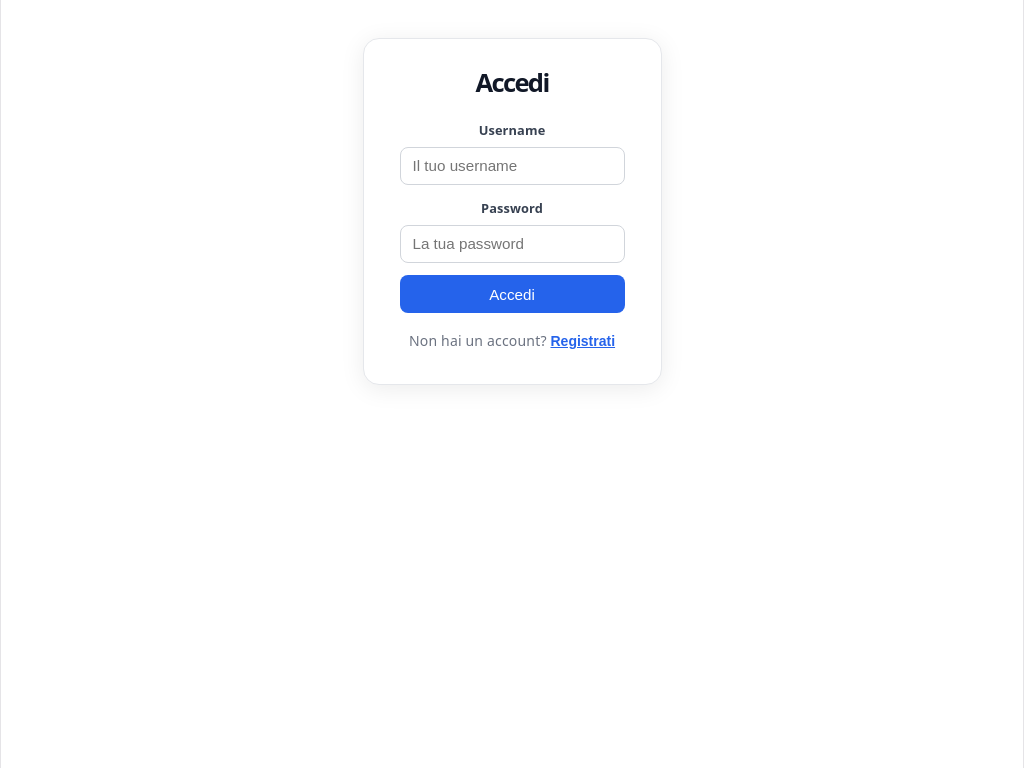
login flow › stores token + user and renders the planner on success
The image size is (1024, 768).
In the field labelled "Username": (512, 166) [400,147,624,185], type "mario"
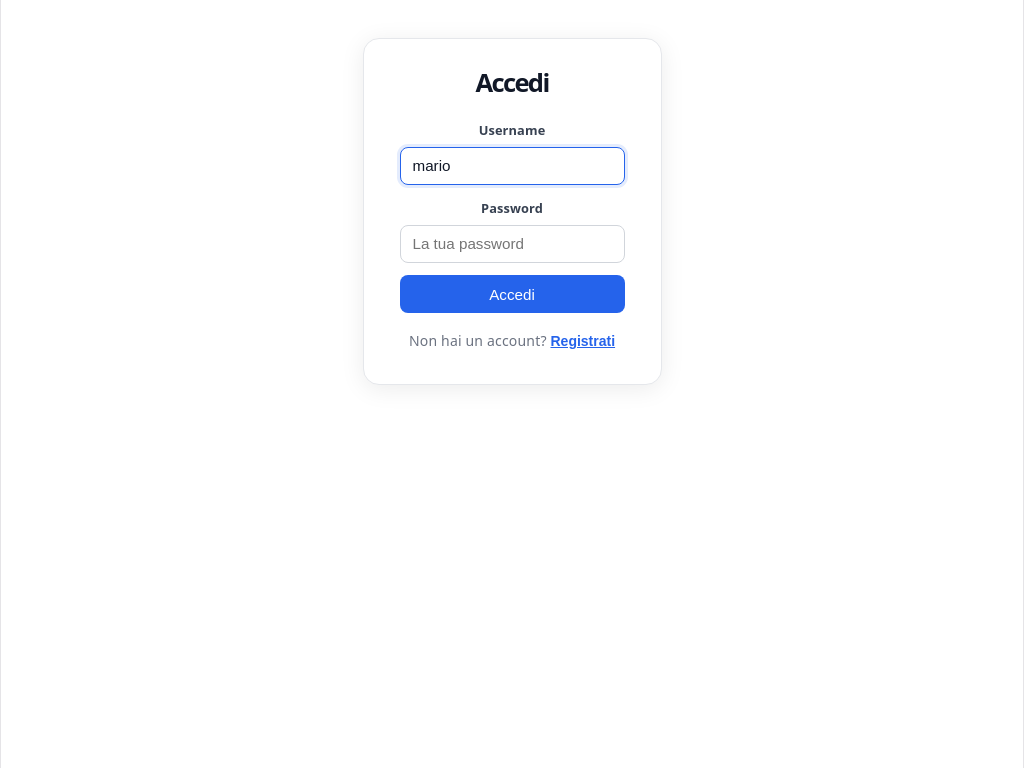
In the password field labelled "Password": (512, 244) [400,225,624,263], type "password123"
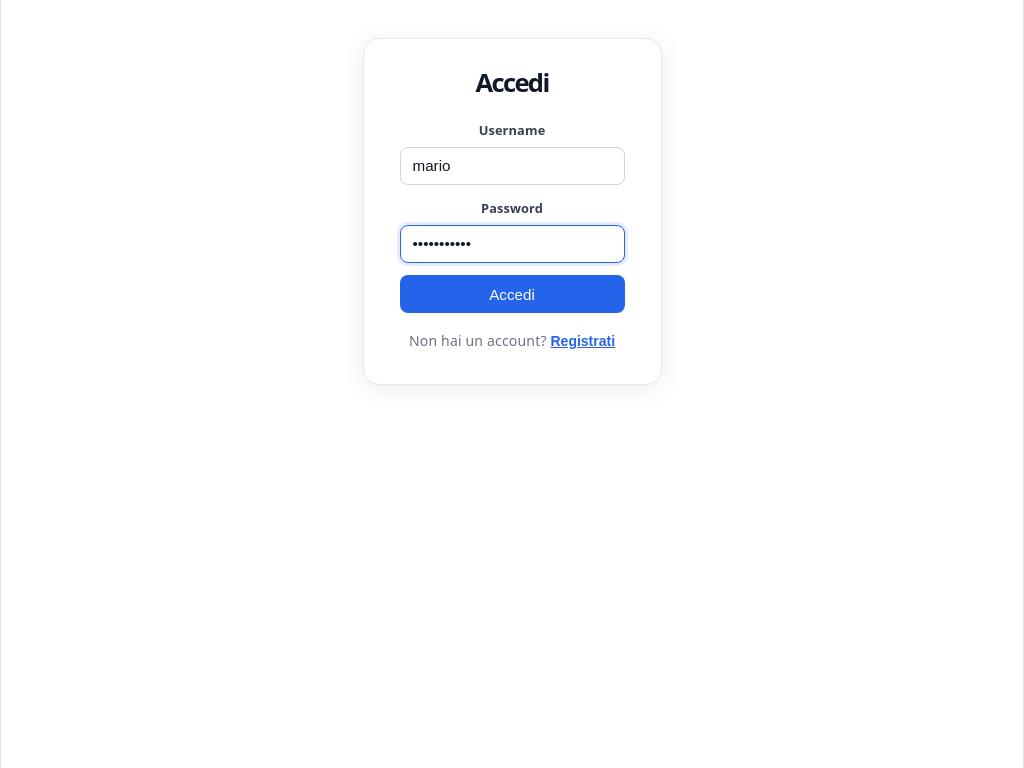
Click the button "Accedi": (512, 294) [400,275,624,313]
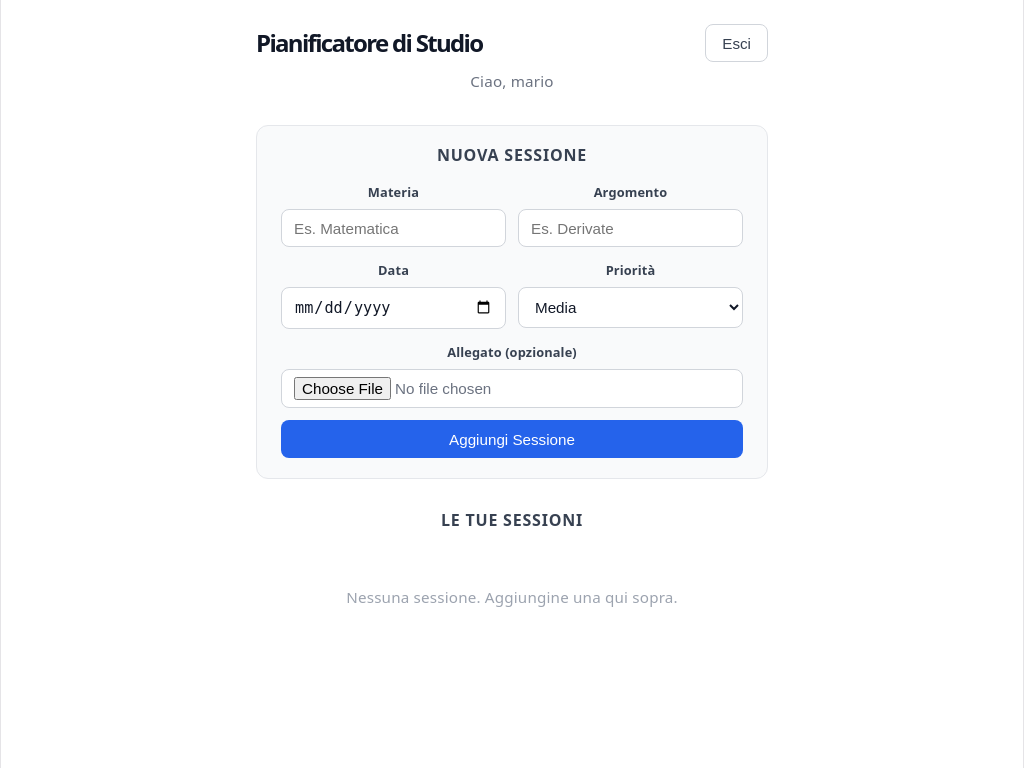
Check: the heading "Pianificatore di Studio" is shown, box [256,32,482,55]
Check: the text "Ciao, mario" is shown, box [470,71,554,91]
